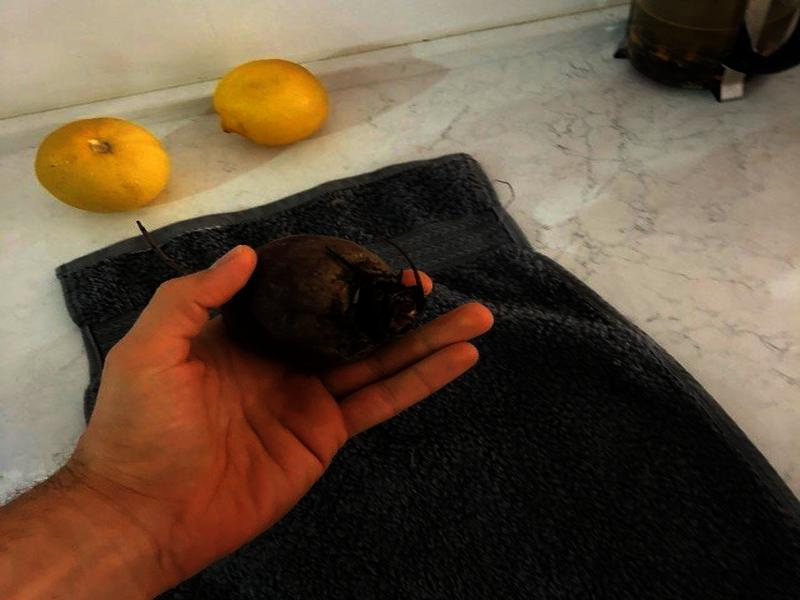Beet: (135, 220, 422, 368)
